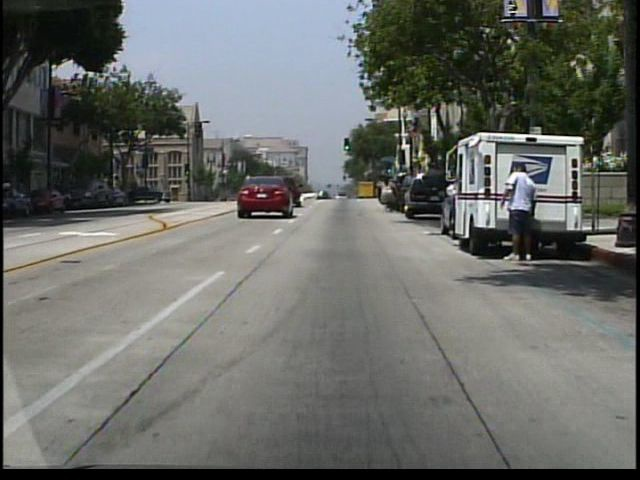person: (495, 162, 540, 263), (378, 173, 398, 216)
